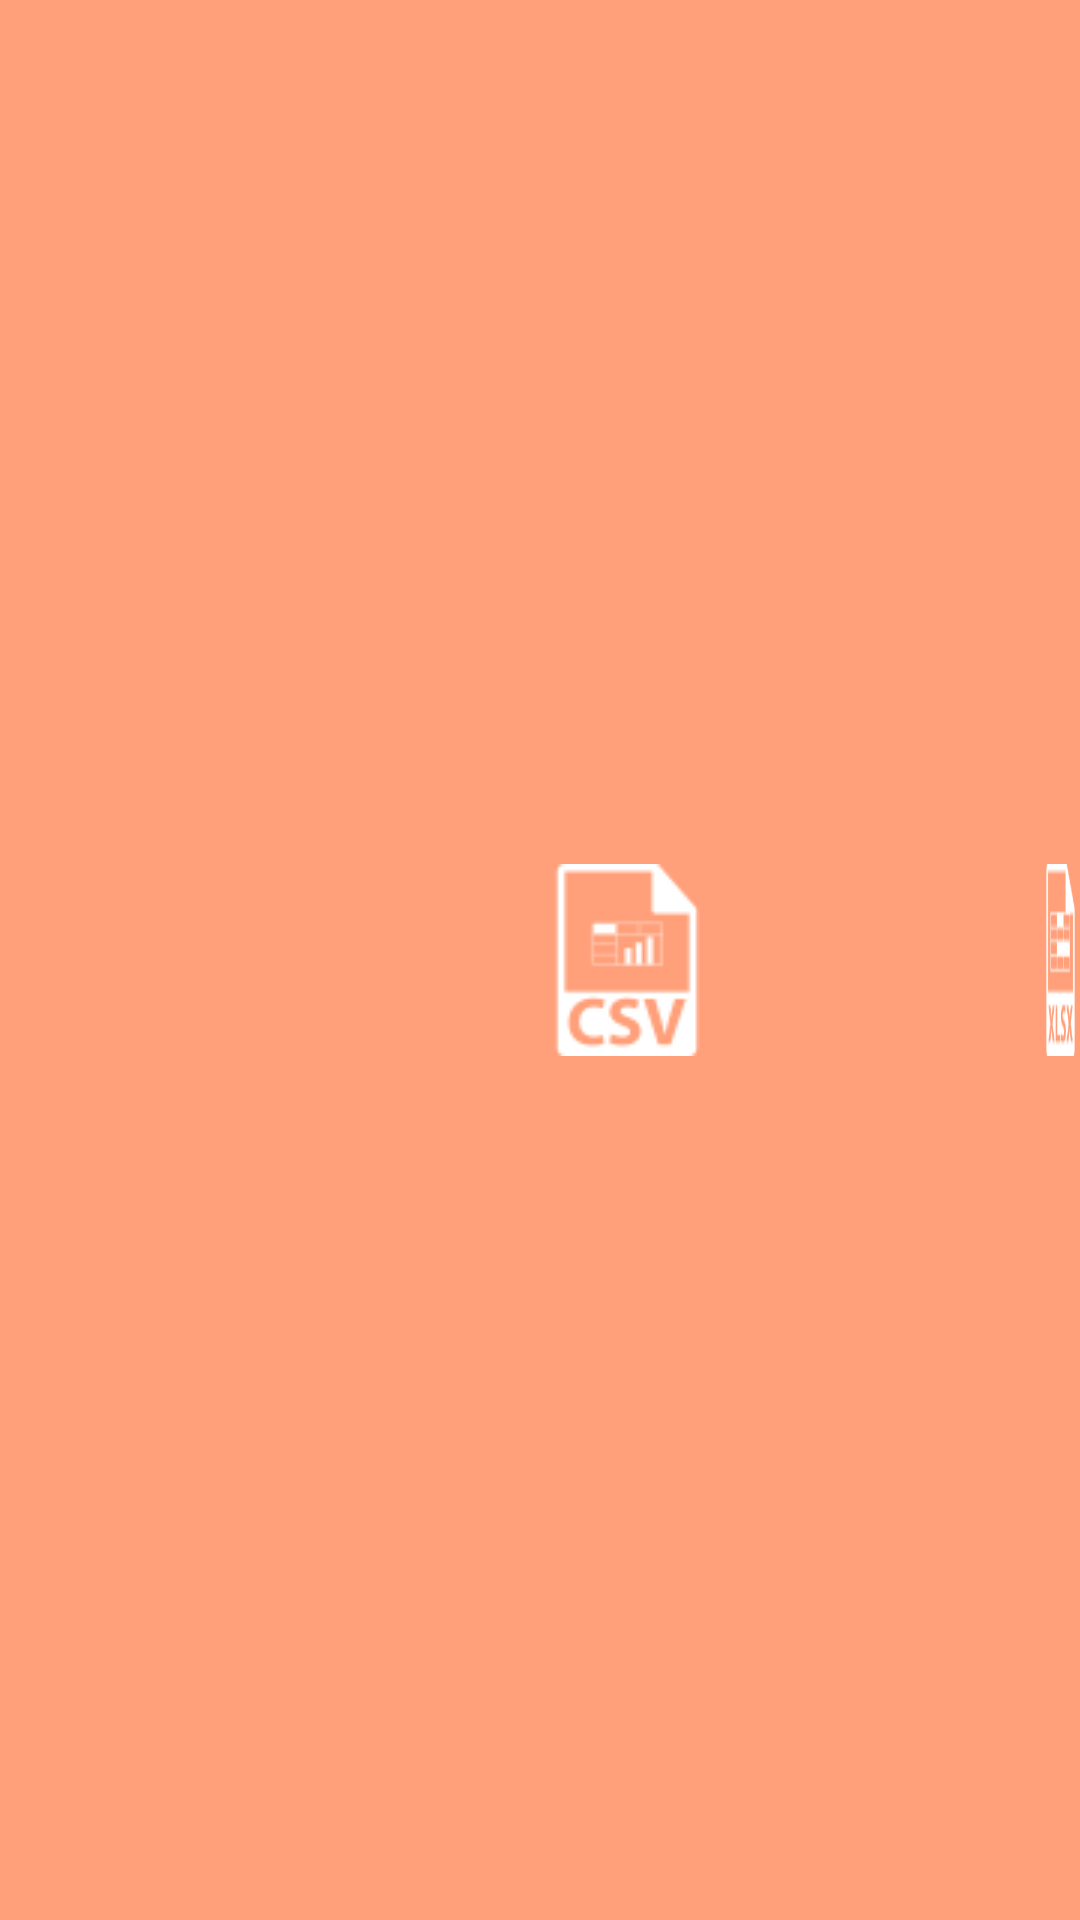

Named icons in this screenshot (1080px×1920px) and their bounding boxes, BBox(x1, y1, x2, y2):
exportcsv: BBox(556, 864, 698, 1056)
